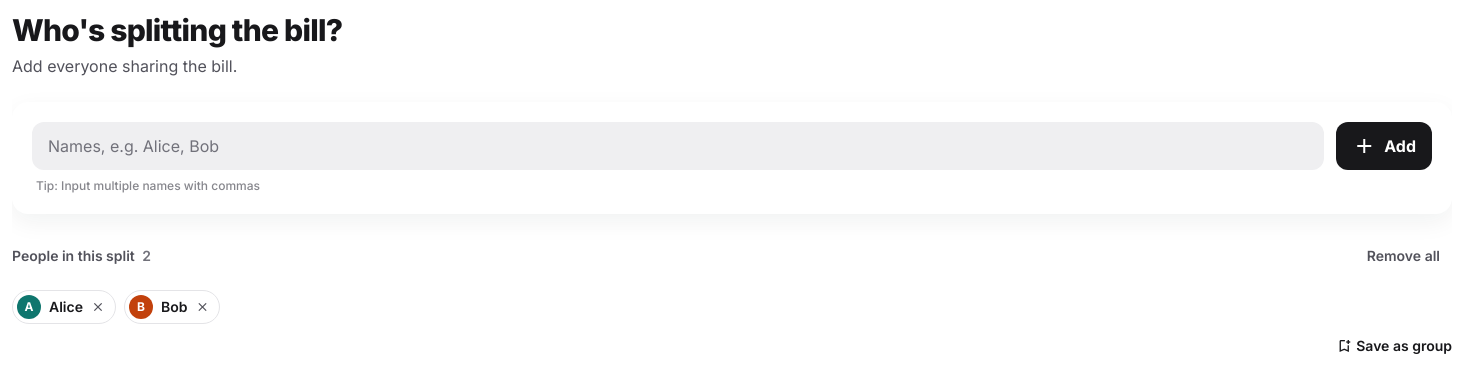
Scenario: PeopleStep removal › removes a person immediately when reduced motion is enabled
The image size is (1464, 371).
Step 1. Click the button with test id "person-chip-p1" → (64, 306), box [12,290,116,324]
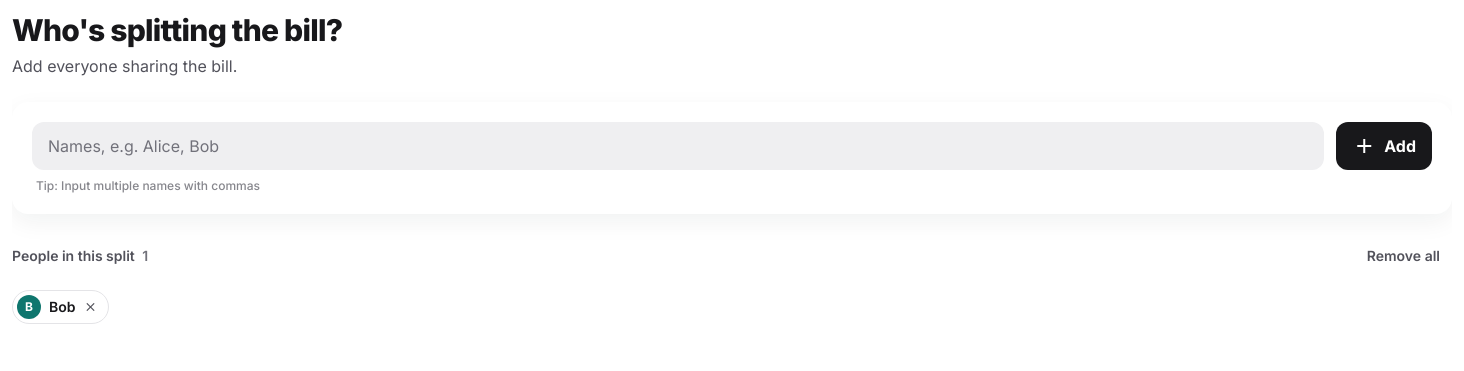
Expected: the button with test id "person-chip-p1" is gone
